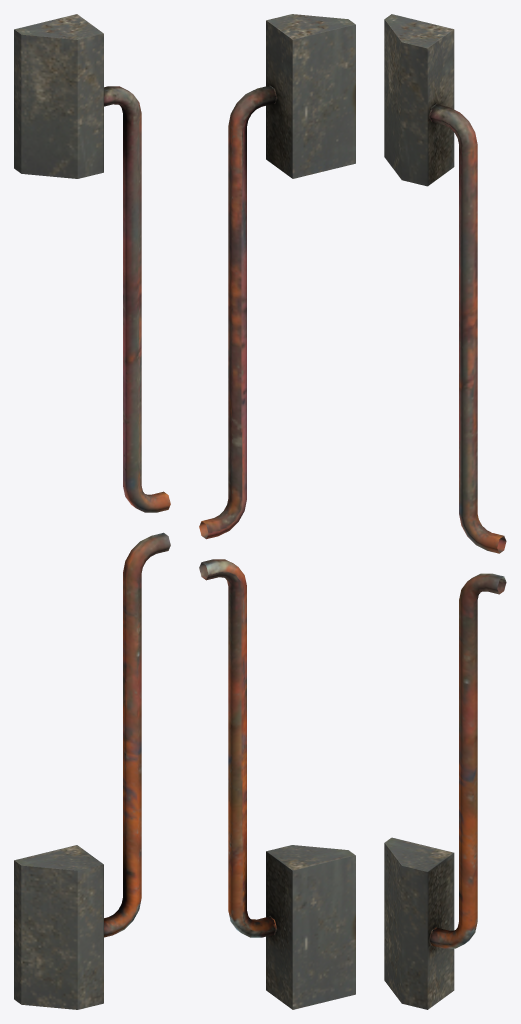
Rendered from DoorSupport.FBX.
3 renders of one model, left to right at view 1: azimuth 30°, elevation 25°; view 2: azimuth 210°, elevation 25°; view 3: azimuth 330°, elevation 25°, orthographic.
Parts seen in each view (by area): view 1: DoorSupport; view 2: DoorSupport; view 3: DoorSupport.
Part boxes in pixels (x1,y1,x2,y2): DoorSupport: [14, 14, 170, 1009]; DoorSupport: [199, 14, 355, 1009]; DoorSupport: [384, 14, 506, 1009].
Bounding box in the file's own units: 27.44 × 193 × 9.65.
